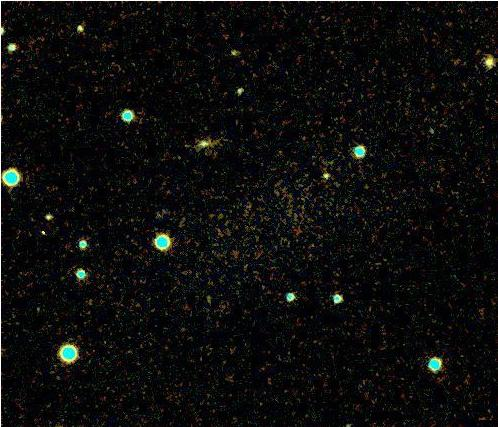star: (30, 219, 60, 249)
